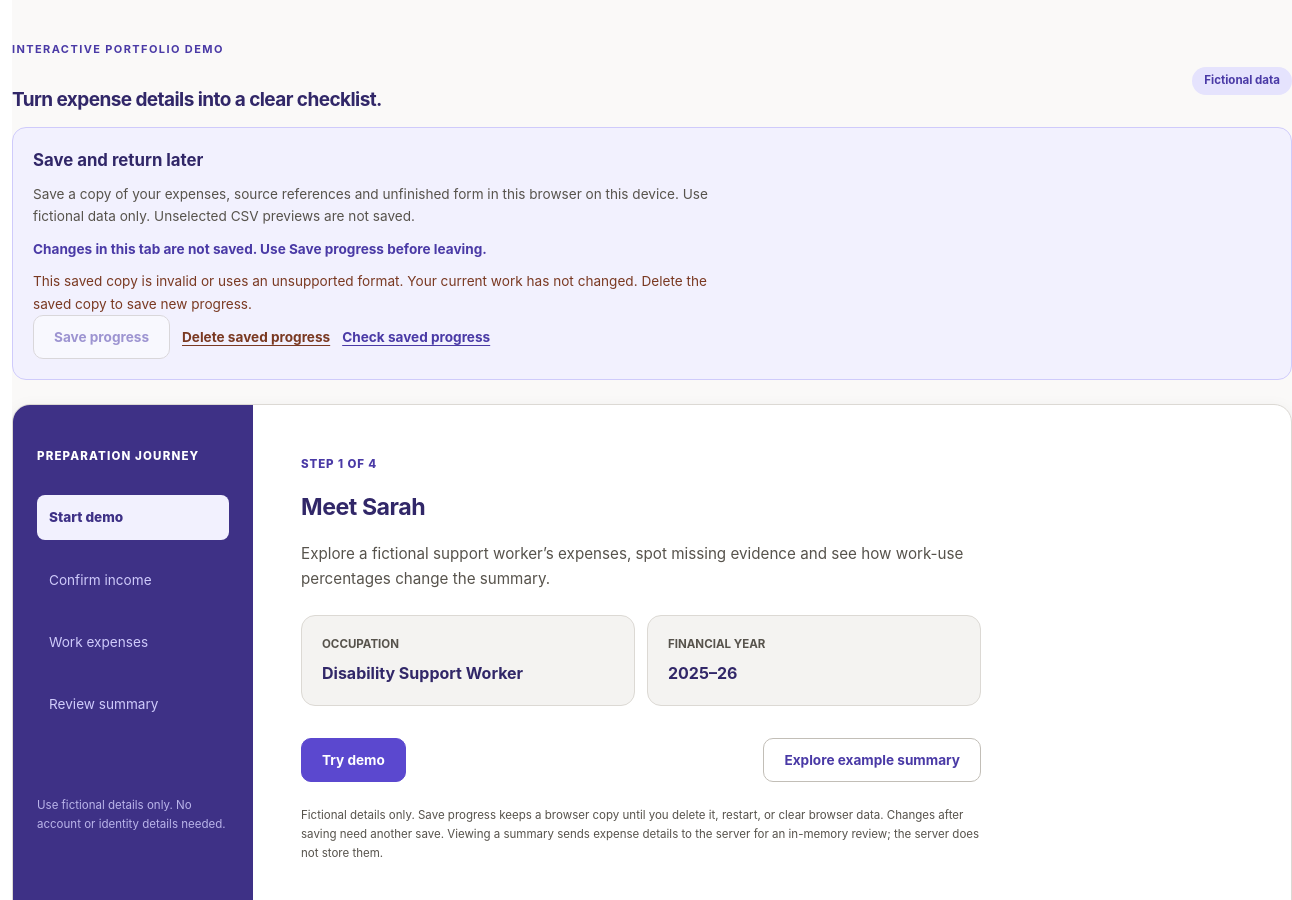
Test: keeps invalid storage intact until deletion and preserves unrelated keys
expect the 2nd message shows "invalid": met, box top-left (33, 273), bottom-right (707, 312)
expect the button "Save progress" is disabled: met, box top-left (33, 315), bottom-right (170, 359)
Click the button "Try demo" at [353, 760], box top-left (301, 738), bottom-right (406, 782)
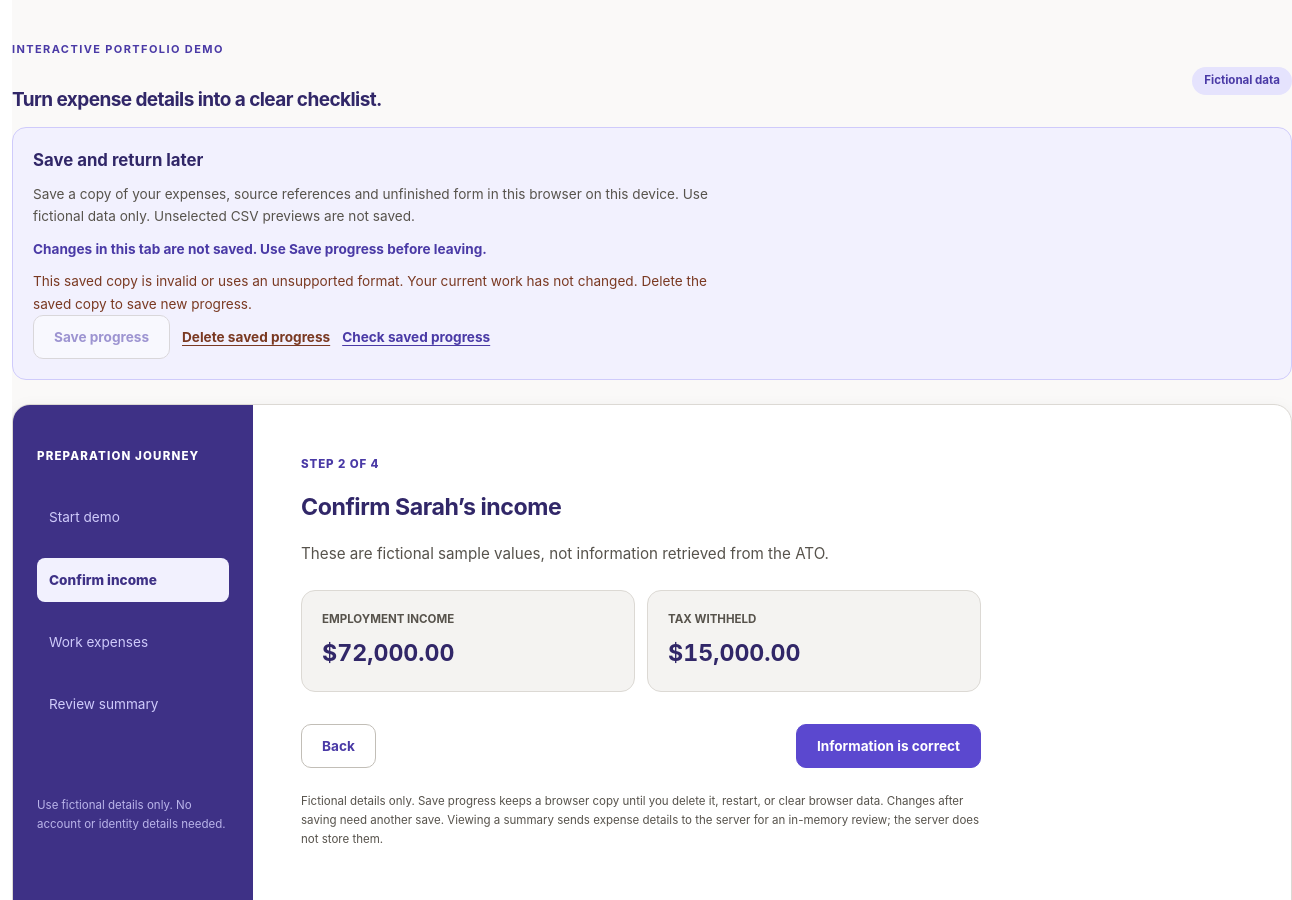
Click the button "Delete saved progress" at [256, 337], box top-left (182, 315), bottom-right (330, 359)
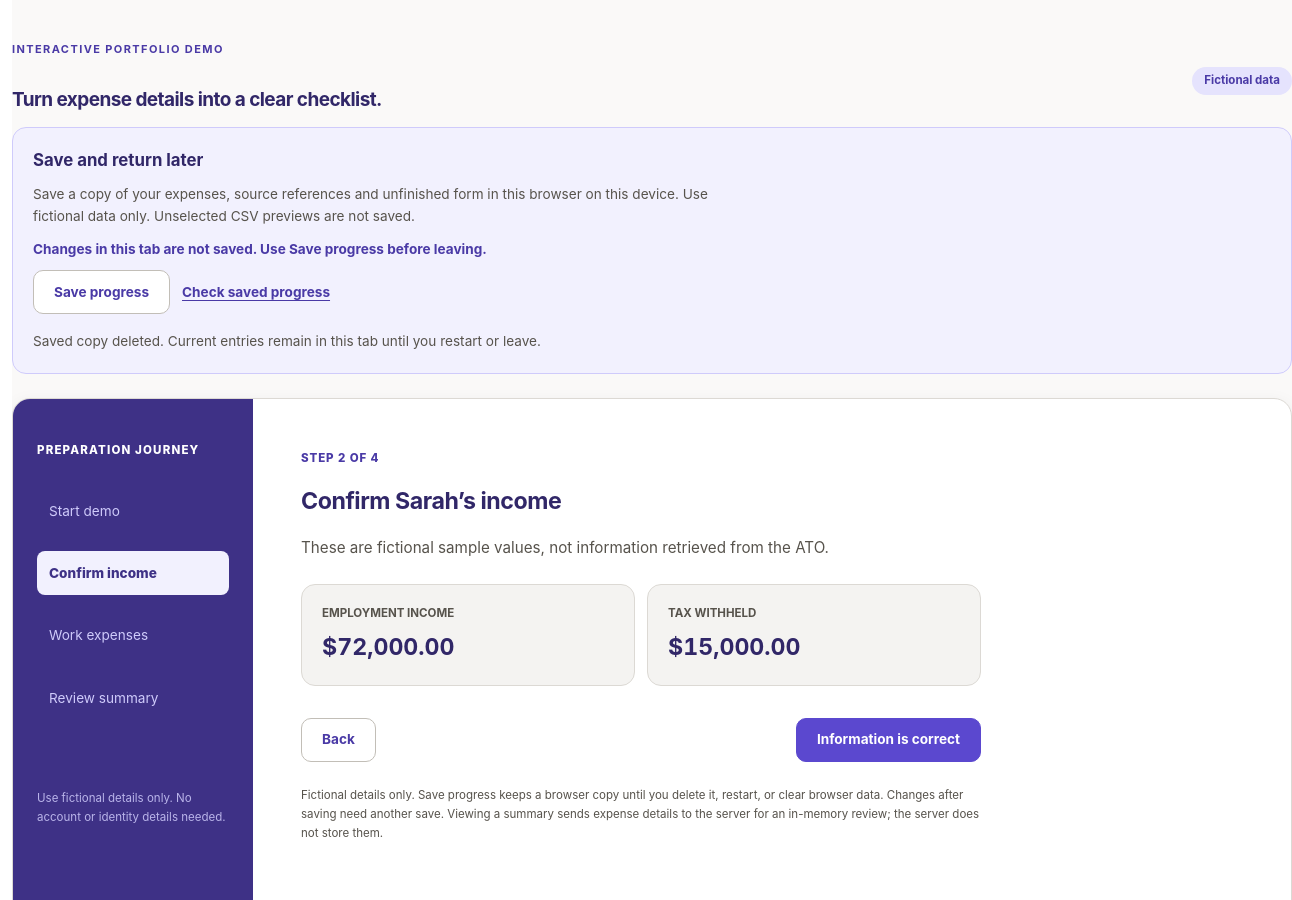
expect the heading "Confirm Sarah’s income" is shown: met, box top-left (301, 487), bottom-right (561, 515)
expect the button "Save progress" is enabled: met, box top-left (33, 270), bottom-right (170, 314)
